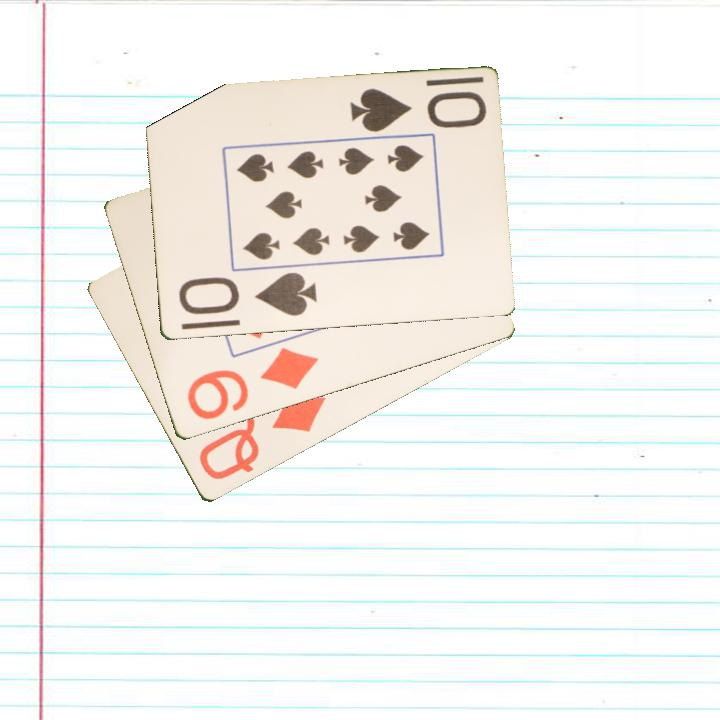10s: (174, 269, 320, 320), (346, 85, 489, 136)
9d: (183, 344, 322, 423)
Qd: (195, 390, 329, 484)
